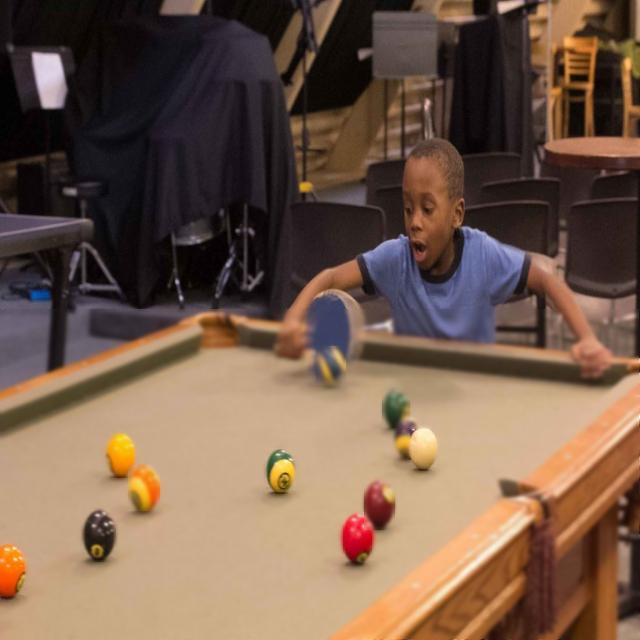Ball: (82, 509, 116, 562), (364, 478, 395, 530), (343, 512, 372, 566), (0, 542, 26, 601), (128, 465, 160, 511), (265, 448, 296, 494), (106, 434, 134, 478), (316, 346, 346, 387), (409, 429, 437, 471), (382, 388, 410, 428)
Billiard table: (0, 309, 639, 639)
